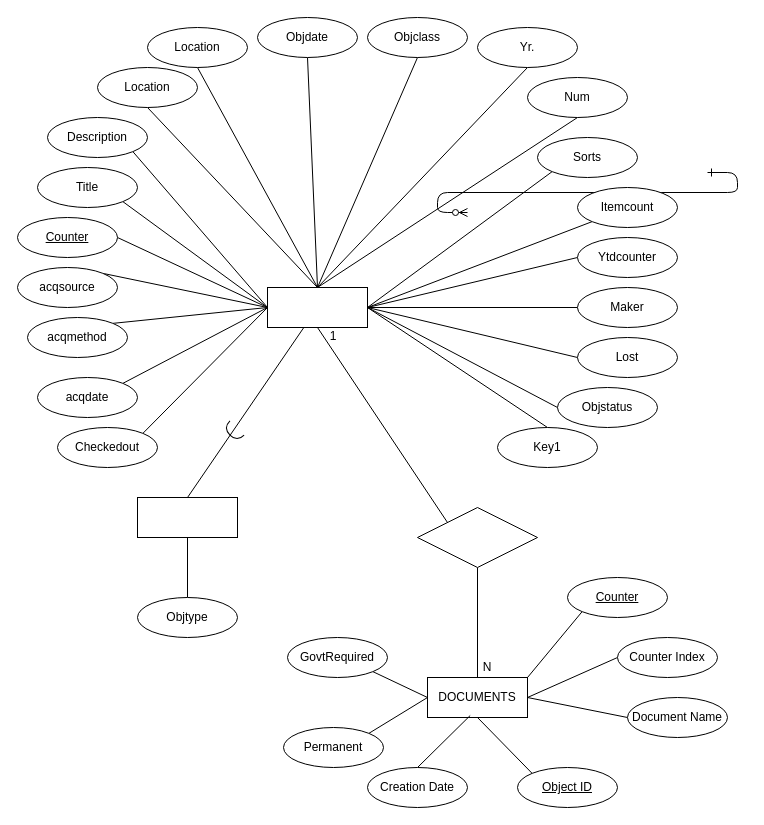
This 764x825 diagram has some shape labels left out. The box of each missing label's shape, as (x1, y1, x2, y2) in pixels:
Contains: (416, 506, 538, 568)
MIMSY1: (266, 286, 368, 328)
TYPE: (136, 496, 238, 538)
